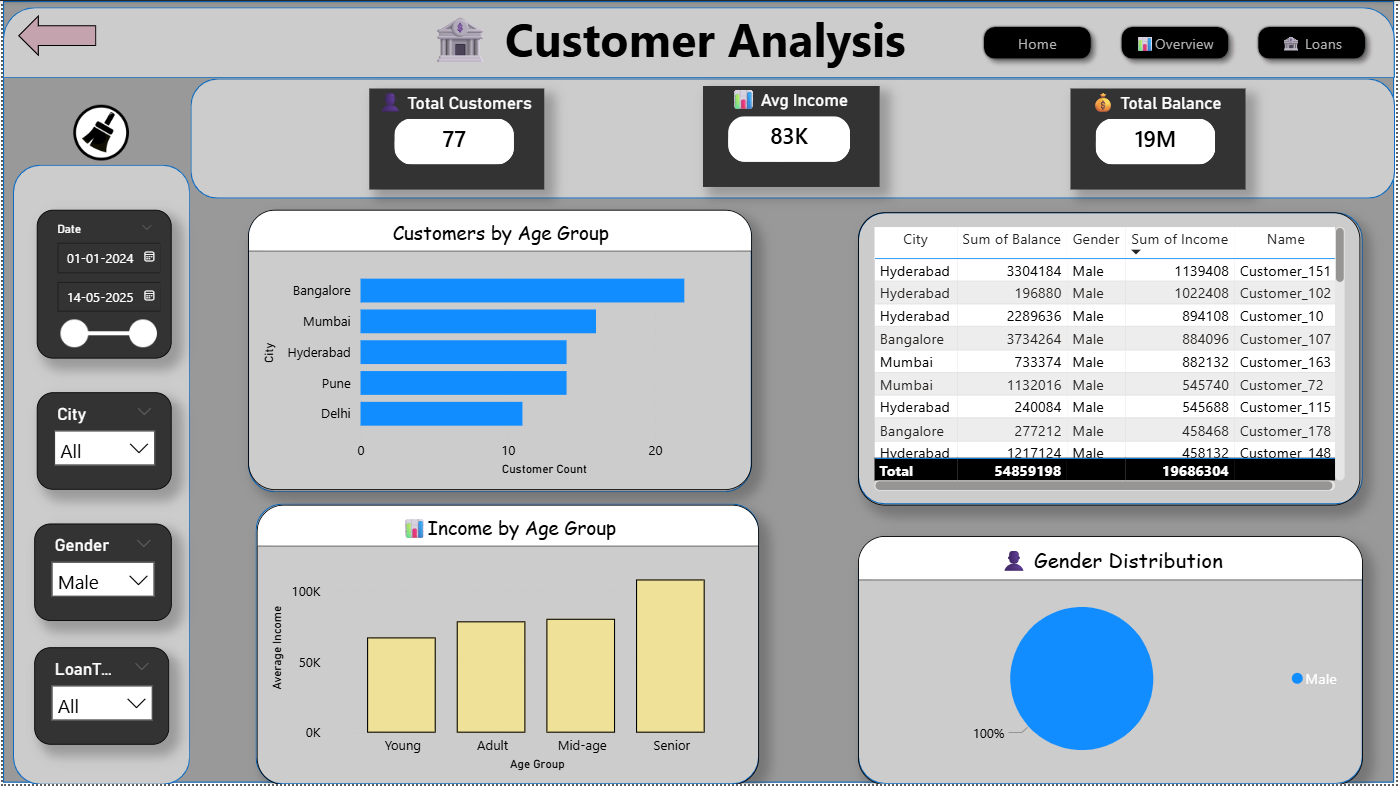

Layout of this report page (visuals, bound fields, positions):
{"tool":"powerbi","page":{"name":"👤 Customers","canvas":[1280,720],"ordinal":2},"visuals":[{"type":"shape","box":[0,0,1278.4,718.3],"z":0},{"type":"shape","box":[0,5.8,1279.1,65.1],"z":1000},{"type":"shape","box":[14,12.8,72.1,38.4],"z":2000},{"type":"actionButton","box":[9.8,13.1,83.6,39.3],"z":3000},{"type":"shape","box":[172.1,70.9,1107,110.5],"z":4000},{"type":"cardVisual","title":"👤 Total Customers","fields":{"Data":["BankData.Total Customers"]},"box":[336.1,80.4,160.7,93.2],"z":5000},{"type":"cardVisual","title":"💰 Total Balance","fields":{"Data":["BankData.Total Balance"]},"box":[980.8,80.4,160.7,93.2],"z":6000},{"type":"cardVisual","title":"📊 Avg Income","fields":{"Data":["BankData.Average Income"]},"box":[642.9,78.5,162.6,93.2],"z":7000},{"type":"shape","box":[9.3,150,162.8,569.8],"z":8000},{"type":"shape","box":[225.1,193,462.9,258.5],"z":9000},{"type":"shape","box":[232.6,461.6,462.8,258.1],"z":10000},{"type":"shape","box":[785.4,498.6,463.9,221],"z":11000},{"type":"shape","box":[785.4,193.6,463.9,268.5],"z":12000},{"type":"clusteredBarChart","title":"Customers by Age Group","fields":{"Y":["BankData.Customer Count"],"Category":["BankData.City"]},"box":[225.1,191.8,462.9,257.3],"z":13000},{"type":"pieChart","title":"👤 Gender Distribution","fields":{"Category":["BankData.Gender"],"Y":["BankData.Customer Count"]},"box":[785.7,491.6,464.1,228.6],"z":14000},{"type":"clusteredColumnChart","title":"📊Income by Age Group","fields":{"Category":["BankData.Age Group"],"Y":["BankData.Average Income"]},"box":[233.2,462.9,461.8,257.3],"z":15000},{"type":"tableEx","title":"Customers by Age Group","fields":{"Values":["BankData.City","Sum(BankData.Balance)","BankData.Gender","Sum(BankData.Income)","BankData.Name"]},"box":[785.7,194.1,461.8,269.9],"z":16000},{"type":"slicer","fields":{"Values":["BankData.City"]},"box":[31.1,359.8,124.2,89.5],"z":17000},{"type":"slicer","fields":{"Values":["BankData.Gender"]},"box":[29.2,480.4,126,89.5],"z":18000},{"type":"slicer","fields":{"Values":["BankData.LoanType"]},"box":[29.2,593.6,124.2,89.5],"z":19000},{"type":"slicer","fields":{"Values":["BankData.Date"]},"box":[31.1,191.8,124.2,137],"z":20000},{"type":"textbox","box":[385.4,0,659.4,85.8],"z":21000},{"type":"image","box":[49.3,95,82.2,51.1],"z":22000},{"type":"actionButton","box":[55.7,95.1,73.8,49.2],"z":23000},{"type":"pageNavigator","box":[892.5,14.9,368.7,47.1],"z":24000}]}

Visuals, with their boxes in screenshot pixels (x1, y1, x2, y2), scaled from the page's 1280x720 canvas onto the 1400x786 screenshot:
shape: BBox(0, 0, 1398, 784)
shape: BBox(0, 6, 1399, 77)
shape: BBox(15, 14, 94, 56)
actionButton: BBox(11, 14, 102, 57)
shape: BBox(188, 77, 1399, 198)
"👤 Total Customers" cardVisual: BBox(368, 88, 543, 190)
"💰 Total Balance" cardVisual: BBox(1073, 88, 1249, 190)
"📊 Avg Income" cardVisual: BBox(703, 86, 881, 187)
shape: BBox(10, 164, 188, 785)
shape: BBox(246, 211, 752, 493)
shape: BBox(254, 504, 761, 785)
shape: BBox(859, 544, 1366, 785)
shape: BBox(859, 211, 1366, 504)
"Customers by Age Group" clusteredBarChart: BBox(246, 209, 752, 490)
"👤 Gender Distribution" pieChart: BBox(859, 537, 1367, 785)
"📊Income by Age Group" clusteredColumnChart: BBox(255, 505, 760, 785)
"Customers by Age Group" tableEx: BBox(859, 212, 1364, 507)
slicer - BankData.City: BBox(34, 393, 170, 490)
slicer - BankData.Gender: BBox(32, 524, 170, 622)
slicer - BankData.LoanType: BBox(32, 648, 168, 746)
slicer - BankData.Date: BBox(34, 209, 170, 359)
textbox: BBox(422, 0, 1143, 94)
image: BBox(54, 104, 144, 159)
actionButton: BBox(61, 104, 142, 158)
pageNavigator: BBox(976, 16, 1379, 68)
